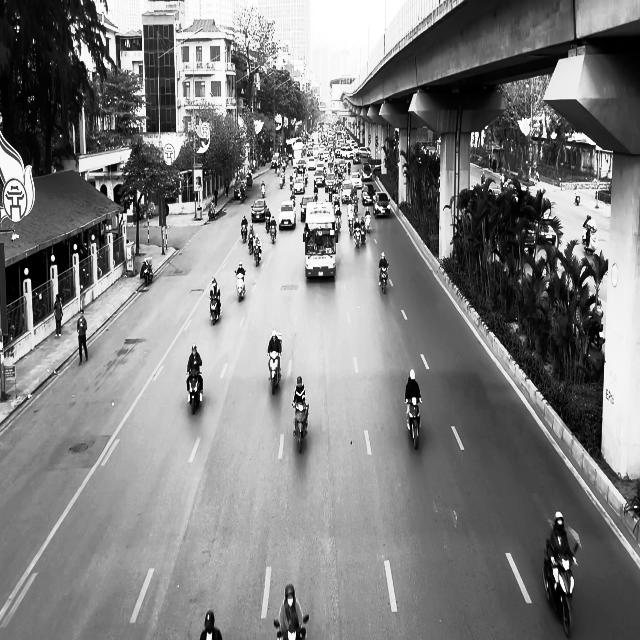bus: (302, 201, 337, 279)
car: (278, 200, 296, 230), (373, 192, 391, 218), (251, 198, 268, 222), (300, 195, 314, 222)
motorbike: (542, 538, 579, 638), (273, 614, 309, 640), (405, 397, 422, 449), (292, 402, 309, 453), (186, 368, 203, 414), (268, 350, 282, 395), (209, 294, 222, 325), (234, 269, 246, 301), (141, 257, 153, 285), (378, 265, 388, 293), (254, 244, 262, 266), (270, 224, 276, 243), (241, 225, 247, 242)
